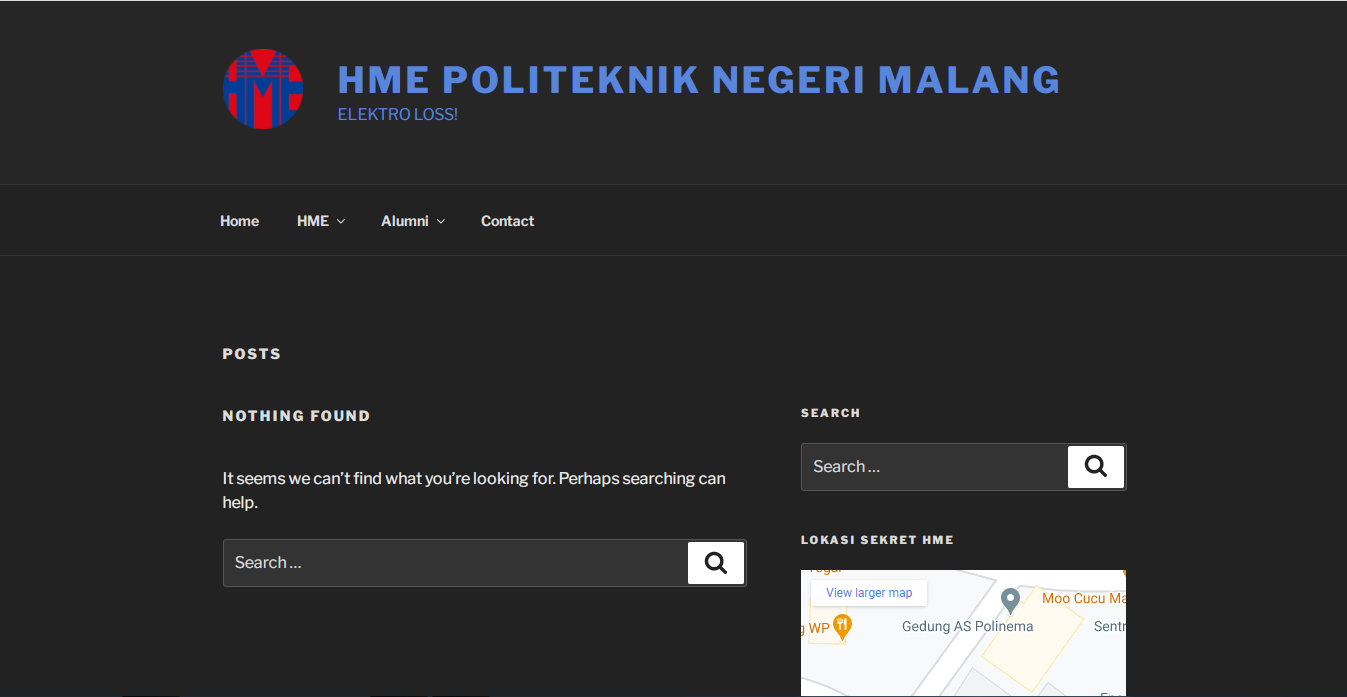Button: (1068, 445, 1127, 490), (687, 539, 742, 585)
Image: (801, 569, 1124, 697), (219, 43, 308, 134)
Menu Bar: (210, 194, 546, 252)
Side Bar: (787, 384, 1148, 697)
Text Field: (225, 538, 689, 589), (802, 442, 1069, 487)
